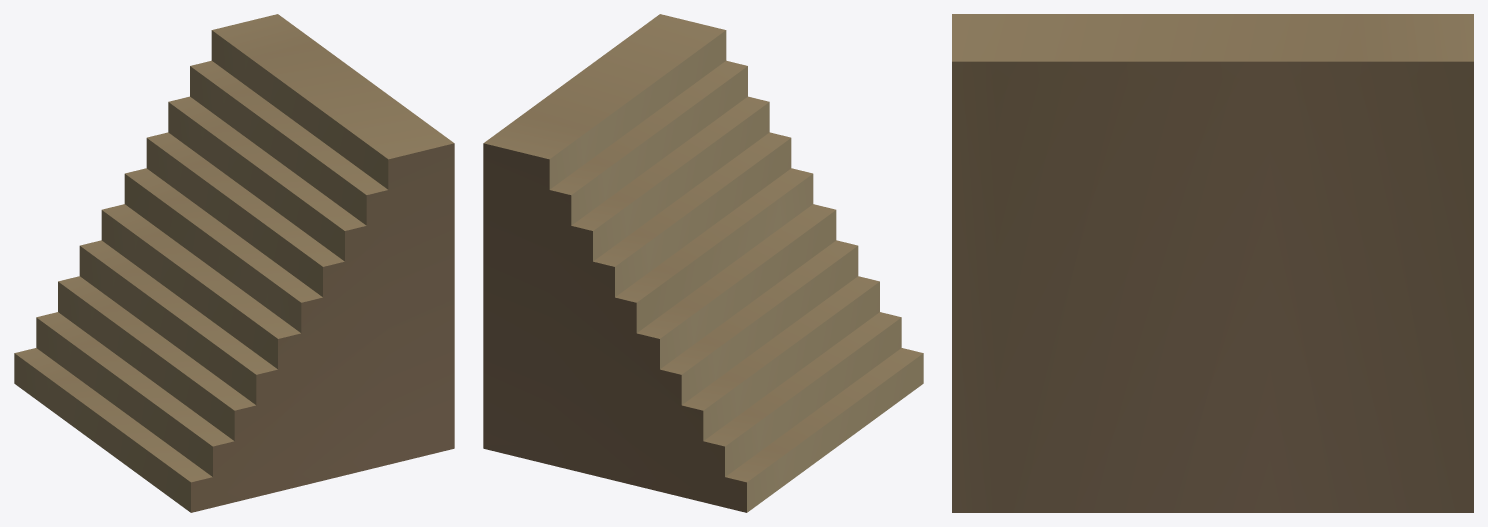
The picture shows the model from 3 angles, left to right: view 1: azimuth 30°, elevation 25°; view 2: azimuth 150°, elevation 25°; view 3: azimuth 270°, elevation 25°; orthographic projection. The views are drawn at different scales.
Parts seen in each view (by area): view 1: stairs_06; view 2: stairs_06; view 3: stairs_06.
Part boxes in pixels (<box>): stairs_06: <box>14,14,454,512</box>; stairs_06: <box>483,14,923,512</box>; stairs_06: <box>952,14,1473,512</box>.
Size of the model in its own units: 0.6776 by 0.7505 by 0.7867.
1 material, 1 textured.
